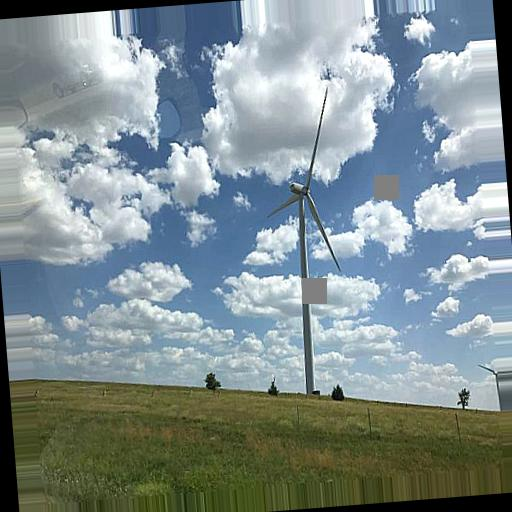wind turbine: (268, 87, 342, 395)
